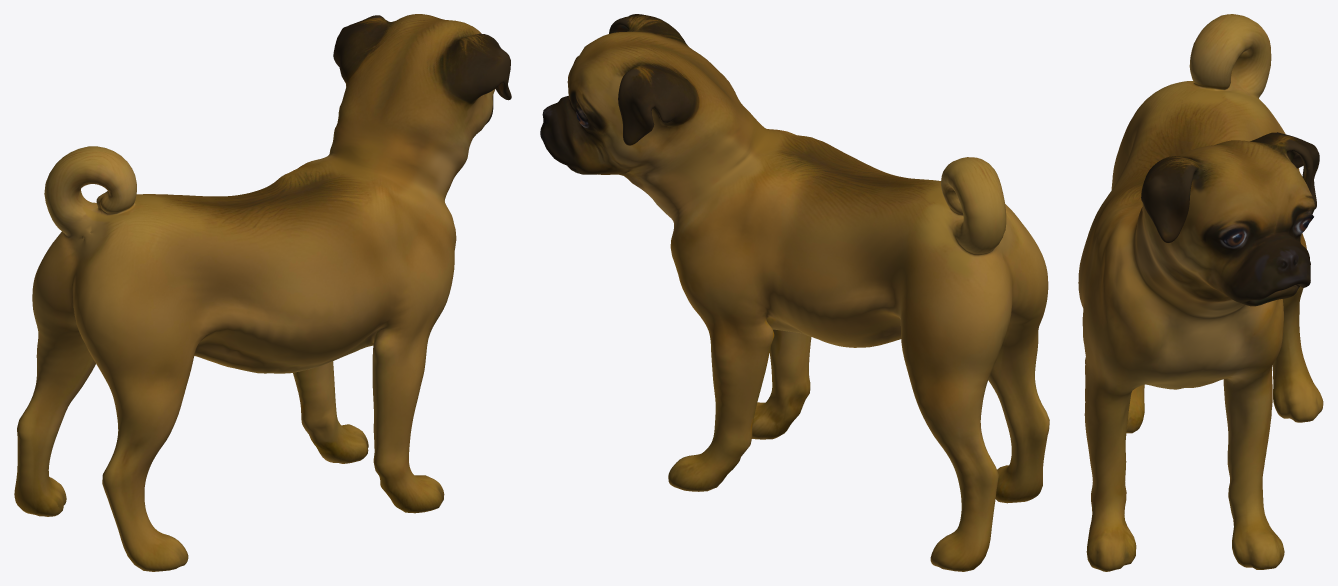
File: Мопс - Ван Лоо. Портрет княгини.gltf
3 renders of one model, left to right at view 1: azimuth 30°, elevation 25°; view 2: azimuth 150°, elevation 25°; view 3: azimuth 270°, elevation 25°, orthographic. The views are drawn at different scales.
Parts seen in each view (by area): view 1: tripo_node_da6c6835; view 2: tripo_node_da6c6835; view 3: tripo_node_da6c6835.
Part boxes in pixels (x1,y1,x2,y2): tripo_node_da6c6835: (14, 14, 511, 571); tripo_node_da6c6835: (540, 14, 1049, 571); tripo_node_da6c6835: (1078, 14, 1323, 571).
Bounding box in the file's own units: 101 × 88.26 × 43.47.
Materials: 1 (1 with a texture image).
